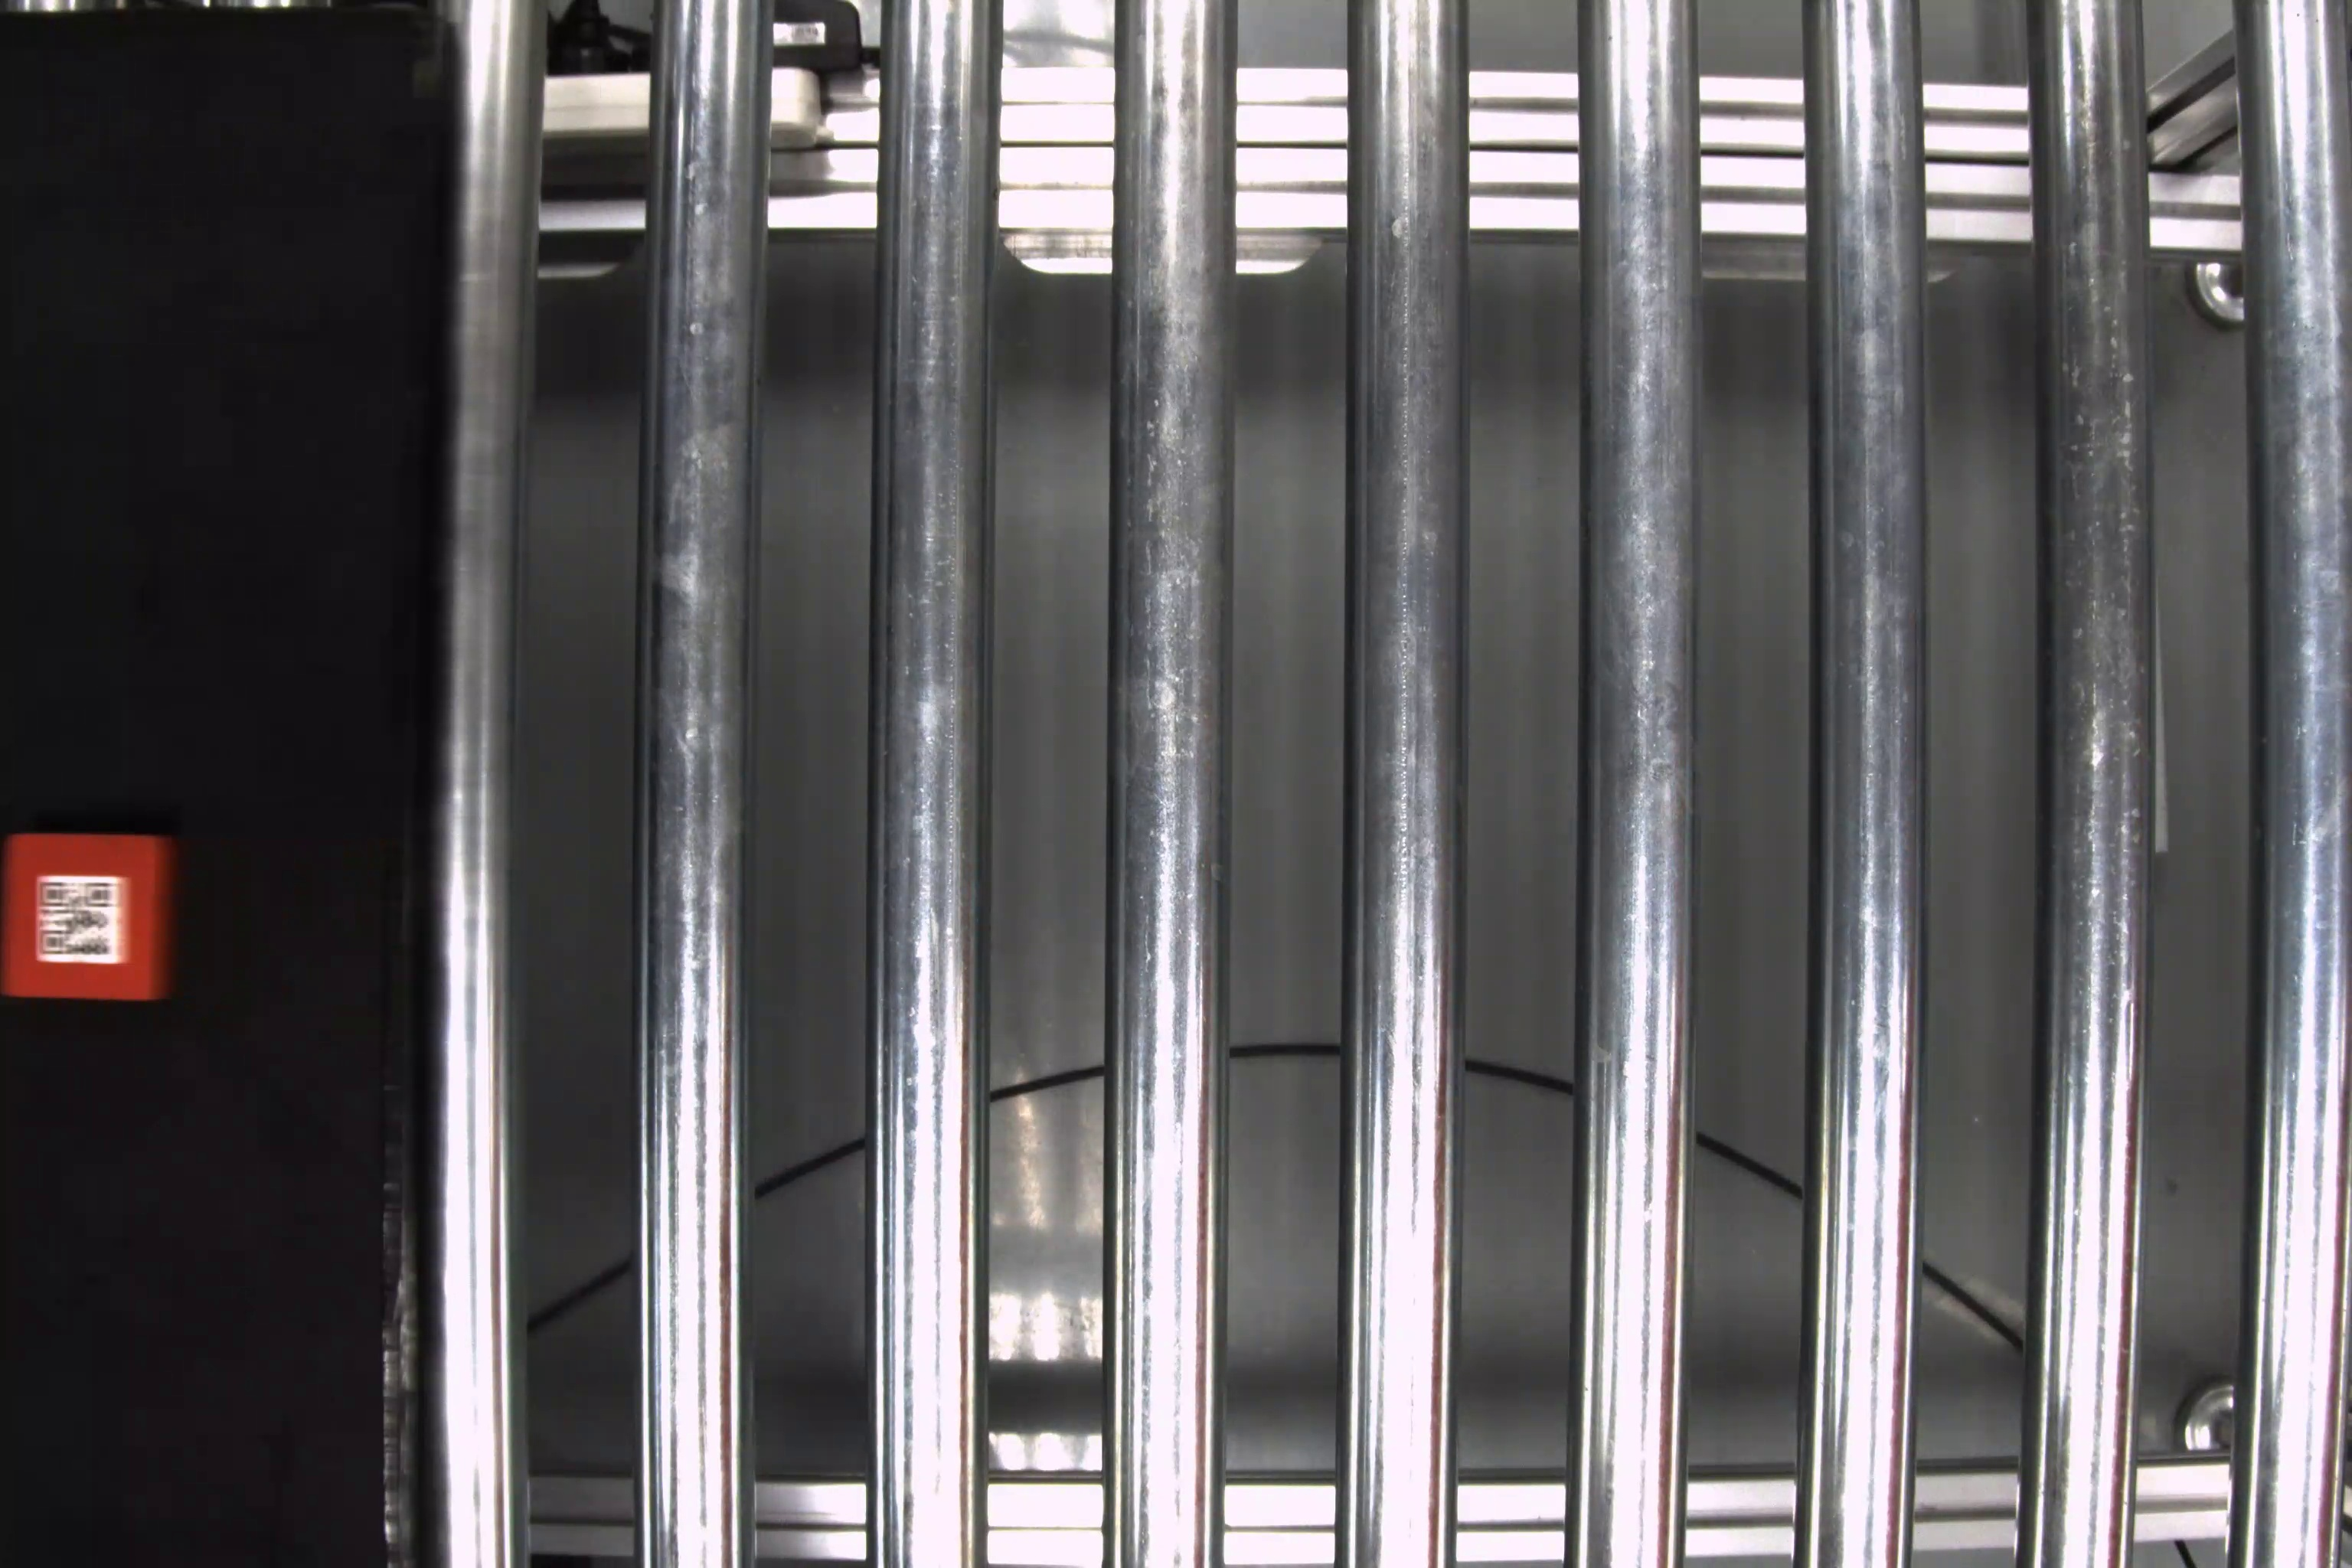wood: (5, 828, 185, 1003)
